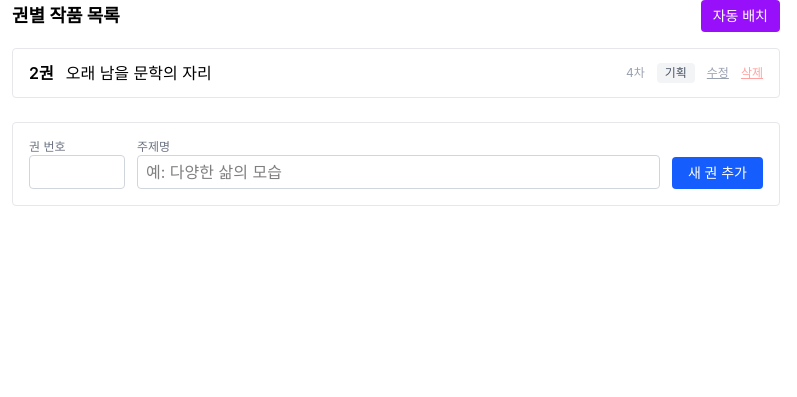
교육과정기가 있는 권은 목록에 표시하고, 수정 폼에서 바꿀 수 있다
This screenshot has width=797, height=397.
Check: the text "4차" is shown, box [626,65,645,81]
Click the button "수정" at (718, 73), box [707,65,729,81]
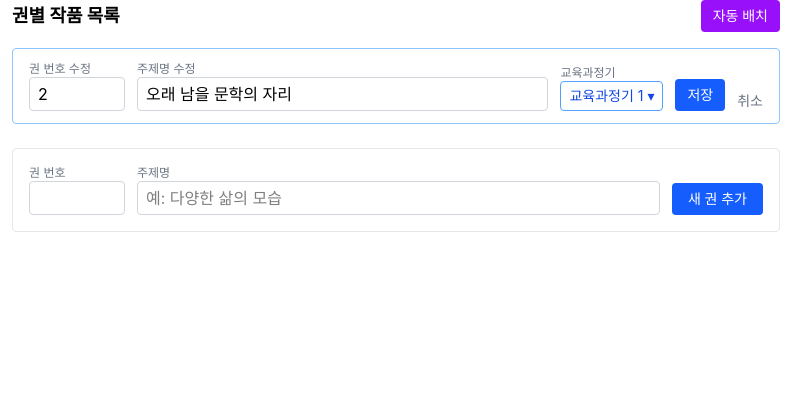
Click the button "교육과정기 1 ▾" at (612, 96), box [560,81,664,111]
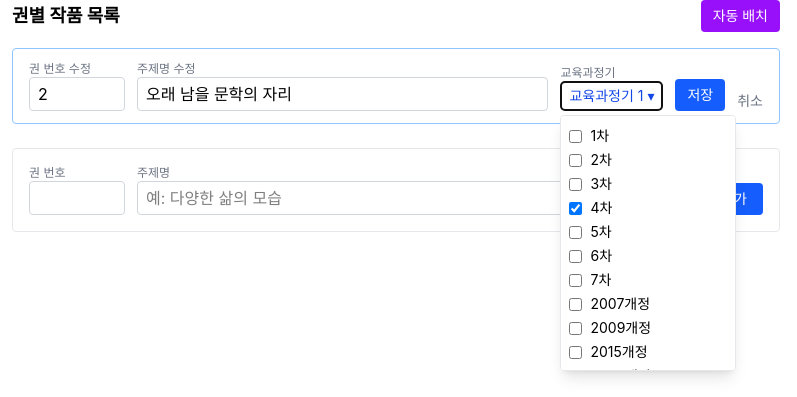
Click the checkbox labelled "5차" at (576, 232), box [570,226,582,238]
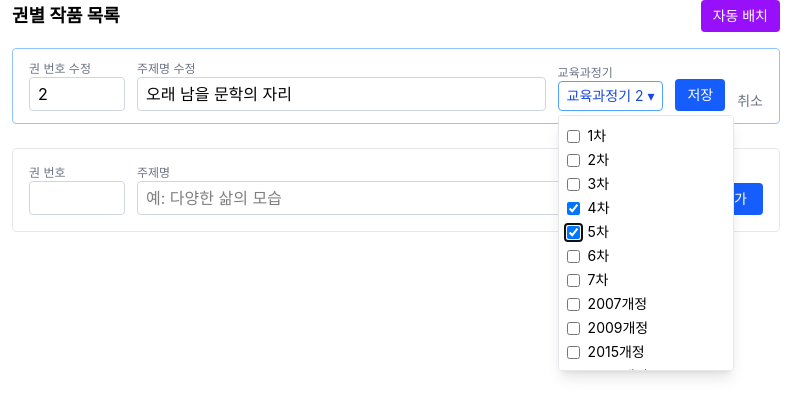
Click the button "저장" at (700, 95), box [676,79,725,111]
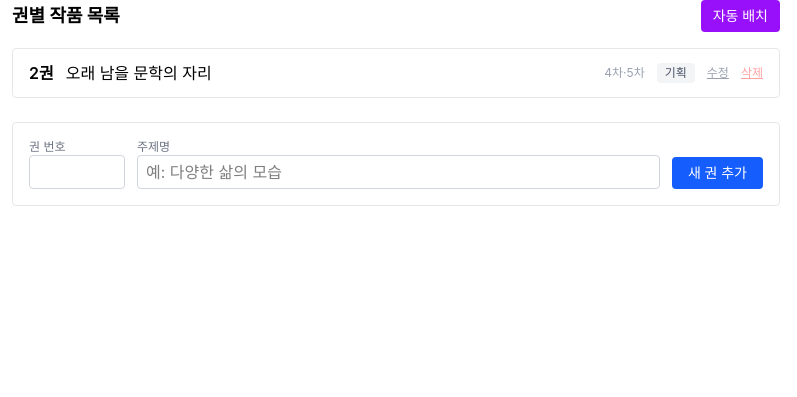
Check: the text "4차·5차" is shown, box [604,65,645,81]
